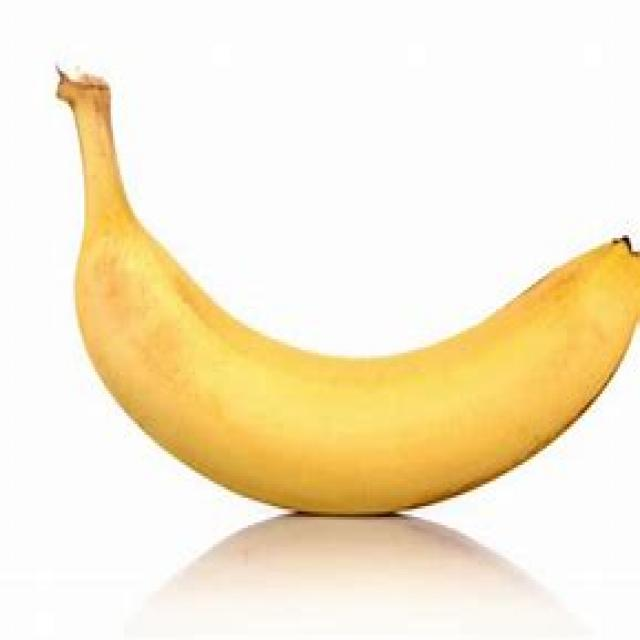Banana: (59, 73, 640, 518)
